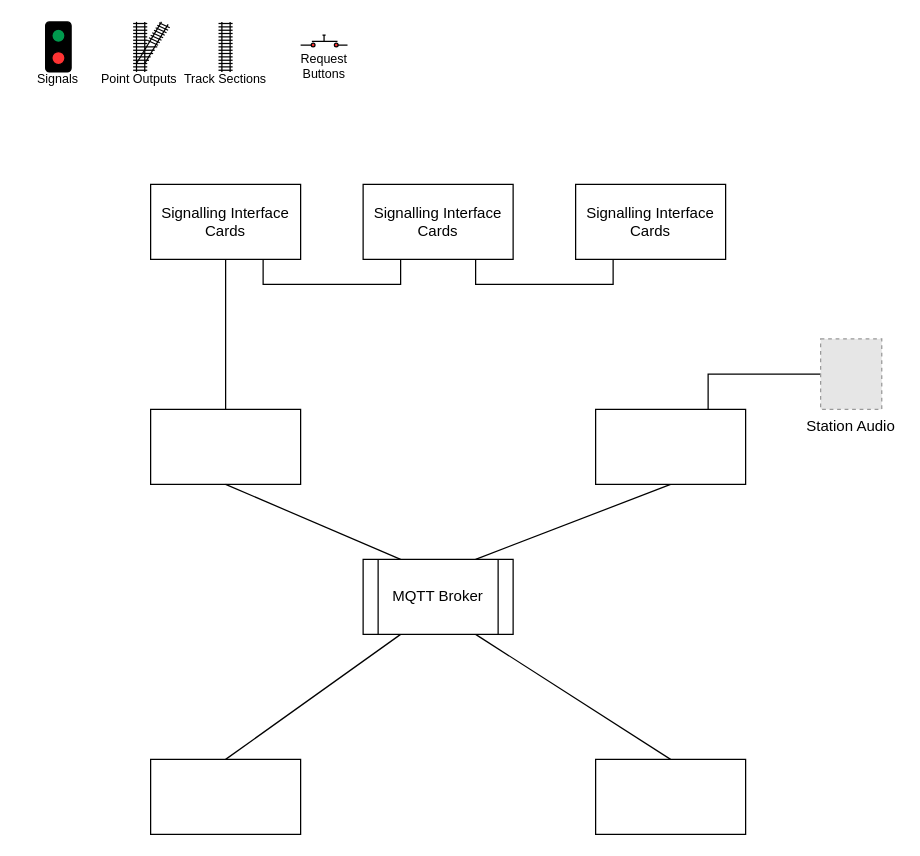
This 920x856 diagram has some shape labels left out. Grey dashed boxes stand in for pictures. Each missing label, with the centre of its shape:
"Audio System" belongs at pixel 670 446.
"Signalling bus Headend" belongs at pixel 225 446.
